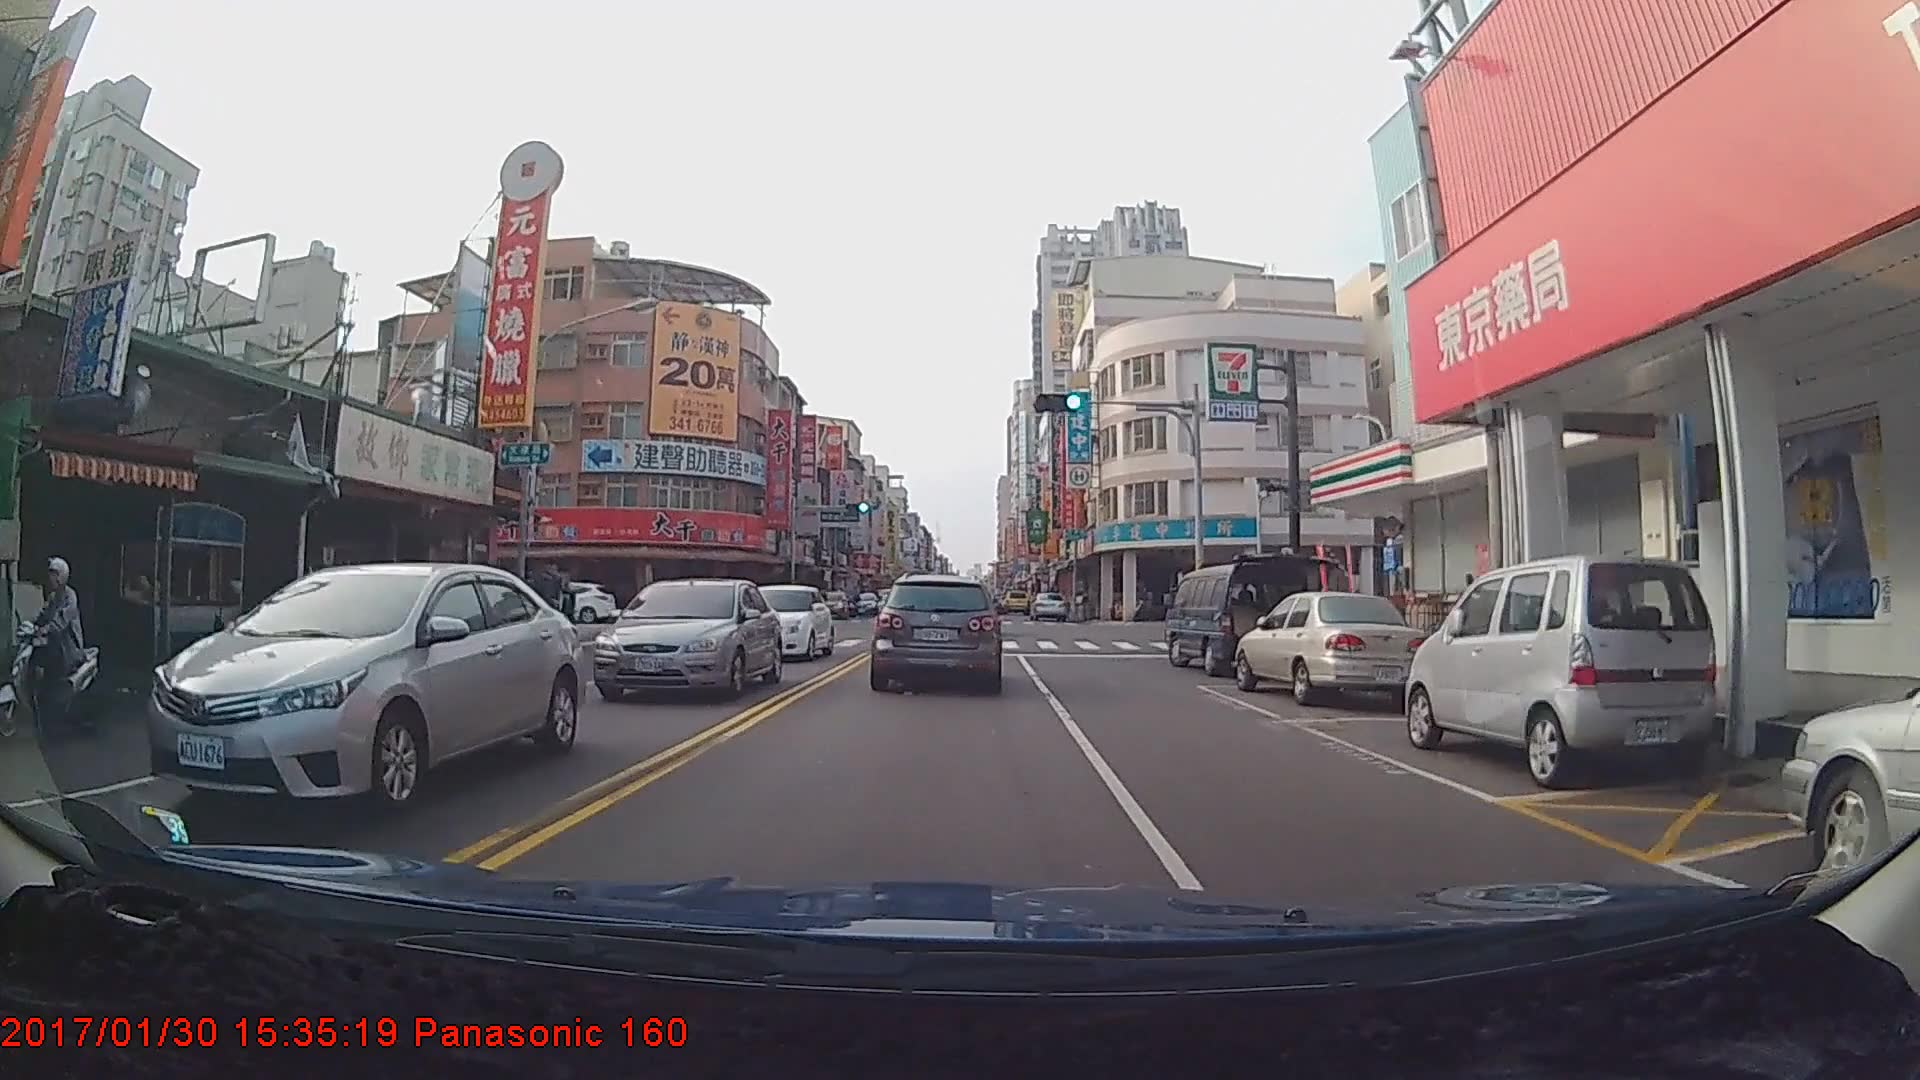rider: (0, 554, 104, 738)
vehicle: (146, 559, 585, 818), (1410, 551, 1715, 787), (1778, 590, 1919, 921), (597, 575, 781, 701), (1235, 590, 1423, 706), (1163, 564, 1310, 676), (874, 570, 1002, 692), (734, 583, 831, 661), (1030, 591, 1068, 623), (811, 587, 846, 620), (847, 593, 880, 616), (1002, 590, 1030, 612)
